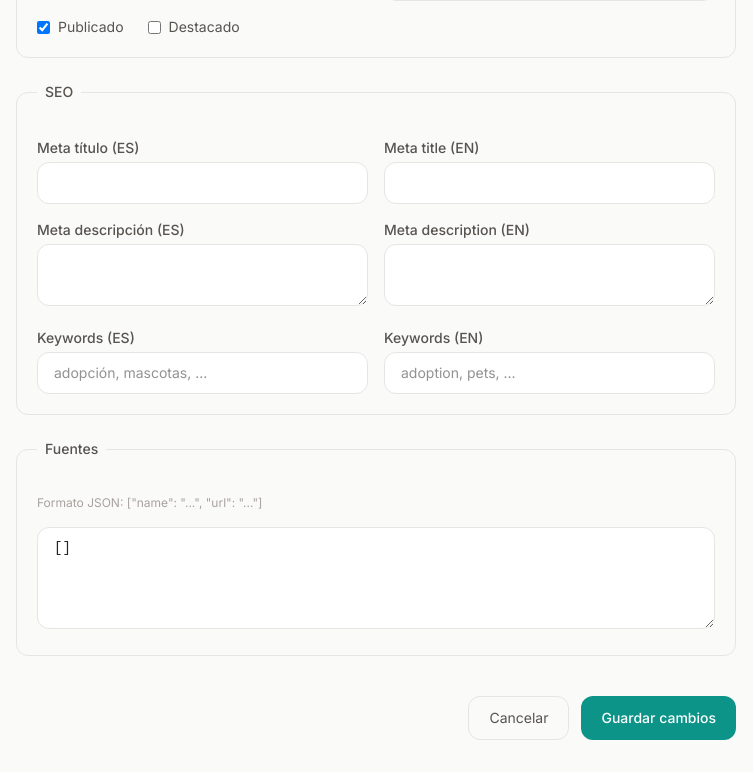
Test case: AdminBlogEditPage › shows fallback error message when handleSave rejects with a non-Error value
(page scrolled)
Click the button "Guardar cambios": (659, 718) [582,696,736,740]
(page scrolled)
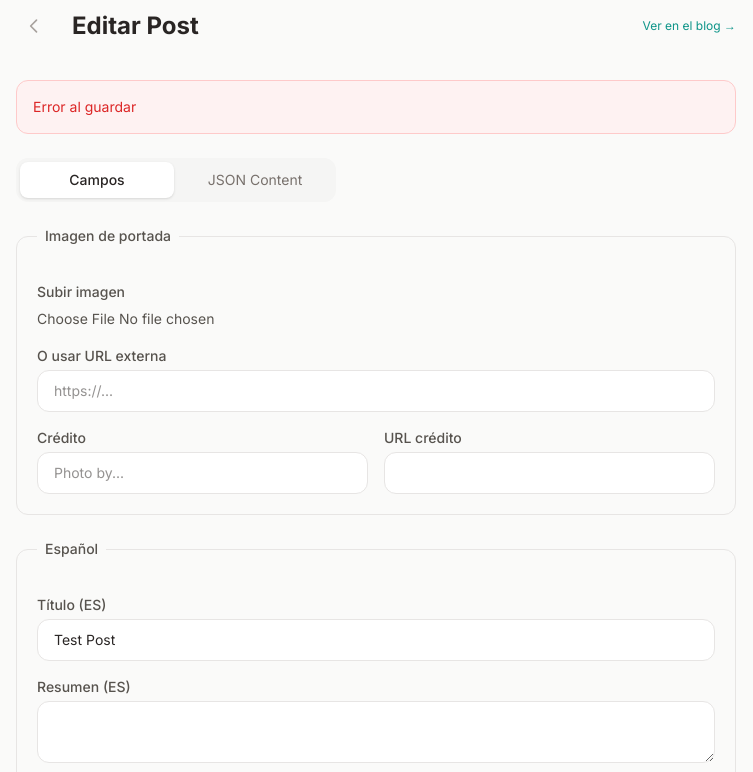
Result: the text "Error al guardar" is shown at [16,80,736,134]
